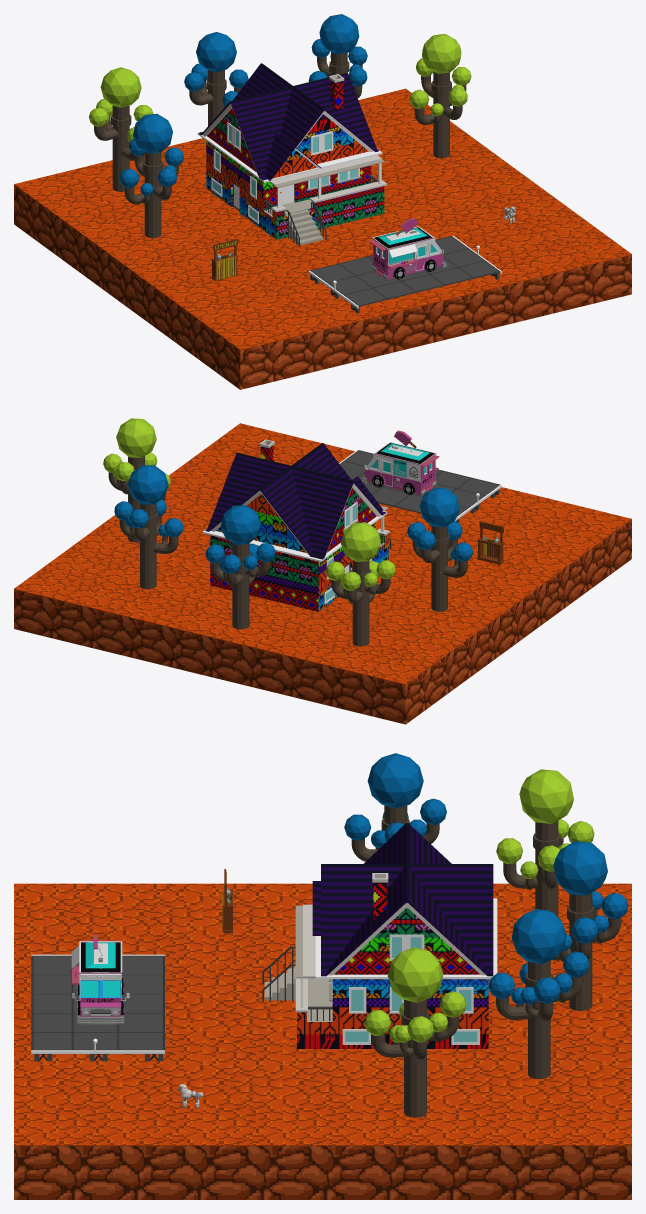
3 renders of one model, top to bottom at view 1: azimuth 30°, elevation 25°; view 2: azimuth 150°, elevation 25°; view 3: azimuth 270°, elevation 25°, orthographic. The views are drawn at different scales.
Visible parts, largest first — view 1: Cube.001, Cube.966, VEHICLES_ICE_CREAM_TRUCK, OBJRANDOM_LEMONADE_STAND; view 2: Cube.001, Cube.966, VEHICLES_ICE_CREAM_TRUCK, OBJRANDOM_LEMONADE_STAND; view 3: Cube.001, Cube.966, VEHICLES_ICE_CREAM_TRUCK.
Boxes of the visible parts, x1,y1,x2,y2 form: Cube.001: [14, 14, 631, 389]; Cube.966: [197, 63, 387, 246]; VEHICLES_ICE_CREAM_TRUCK: [369, 218, 447, 279]; OBJRANDOM_LEMONADE_STAND: [211, 239, 237, 280]; Cube.001: [14, 418, 631, 724]; Cube.966: [202, 439, 391, 611]; VEHICLES_ICE_CREAM_TRUCK: [361, 430, 439, 494]; OBJRANDOM_LEMONADE_STAND: [477, 521, 503, 564]; Cube.001: [14, 753, 631, 1199]; Cube.966: [262, 823, 497, 1048]; VEHICLES_ICE_CREAM_TRUCK: [71, 934, 129, 1024].
Bounding box in the file's own units: 4000 × 1664 × 4000.
Materials: 52 (8 with a texture image).
